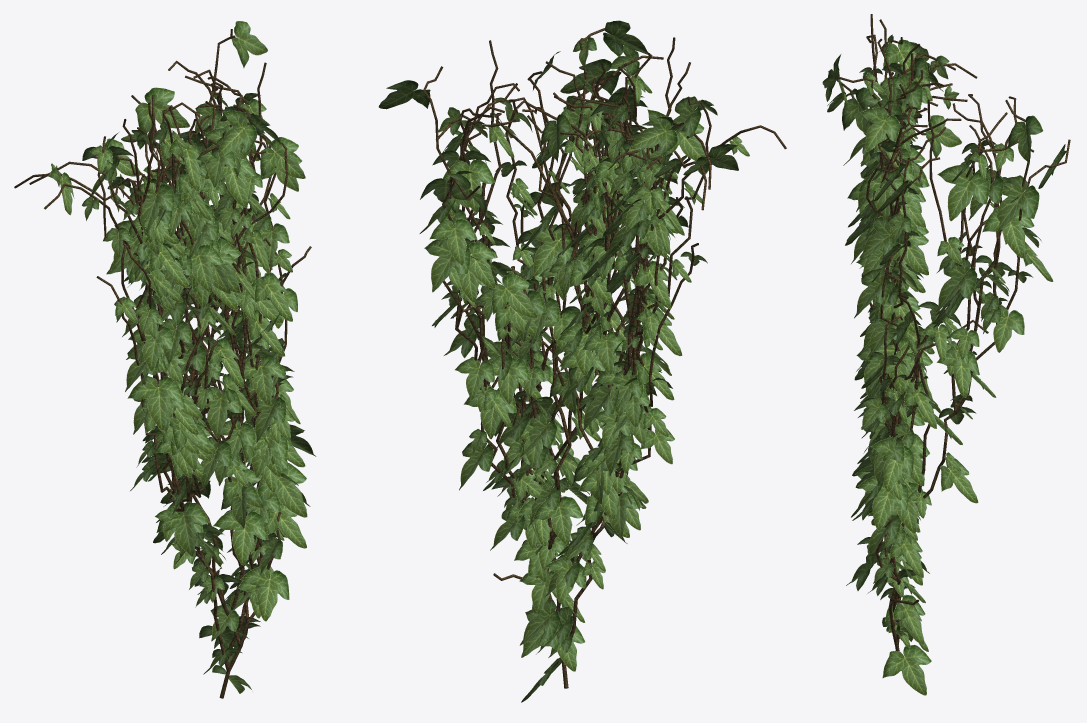
The model's file is SM_Ivy_Corner_00.fbx.
3 renders of one model, left to right at view 1: azimuth 30°, elevation 25°; view 2: azimuth 150°, elevation 25°; view 3: azimuth 270°, elevation 25°, orthographic. The views are drawn at different scales.
Parts seen in each view (by area): view 1: SM_Ivy_Corner_00; view 2: SM_Ivy_Corner_00; view 3: SM_Ivy_Corner_00.
Boxes of the visible parts, x1=… form: SM_Ivy_Corner_00: x1=14, y1=21, x2=316, y2=698; SM_Ivy_Corner_00: x1=378, y1=20, x2=786, y2=702; SM_Ivy_Corner_00: x1=822, y1=14, x2=1070, y2=695.
Bounding box in the file's own units: 86.8 × 172 × 63.23.
